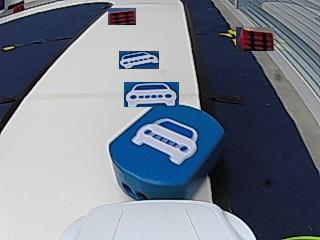safety: (134, 119, 199, 166)
